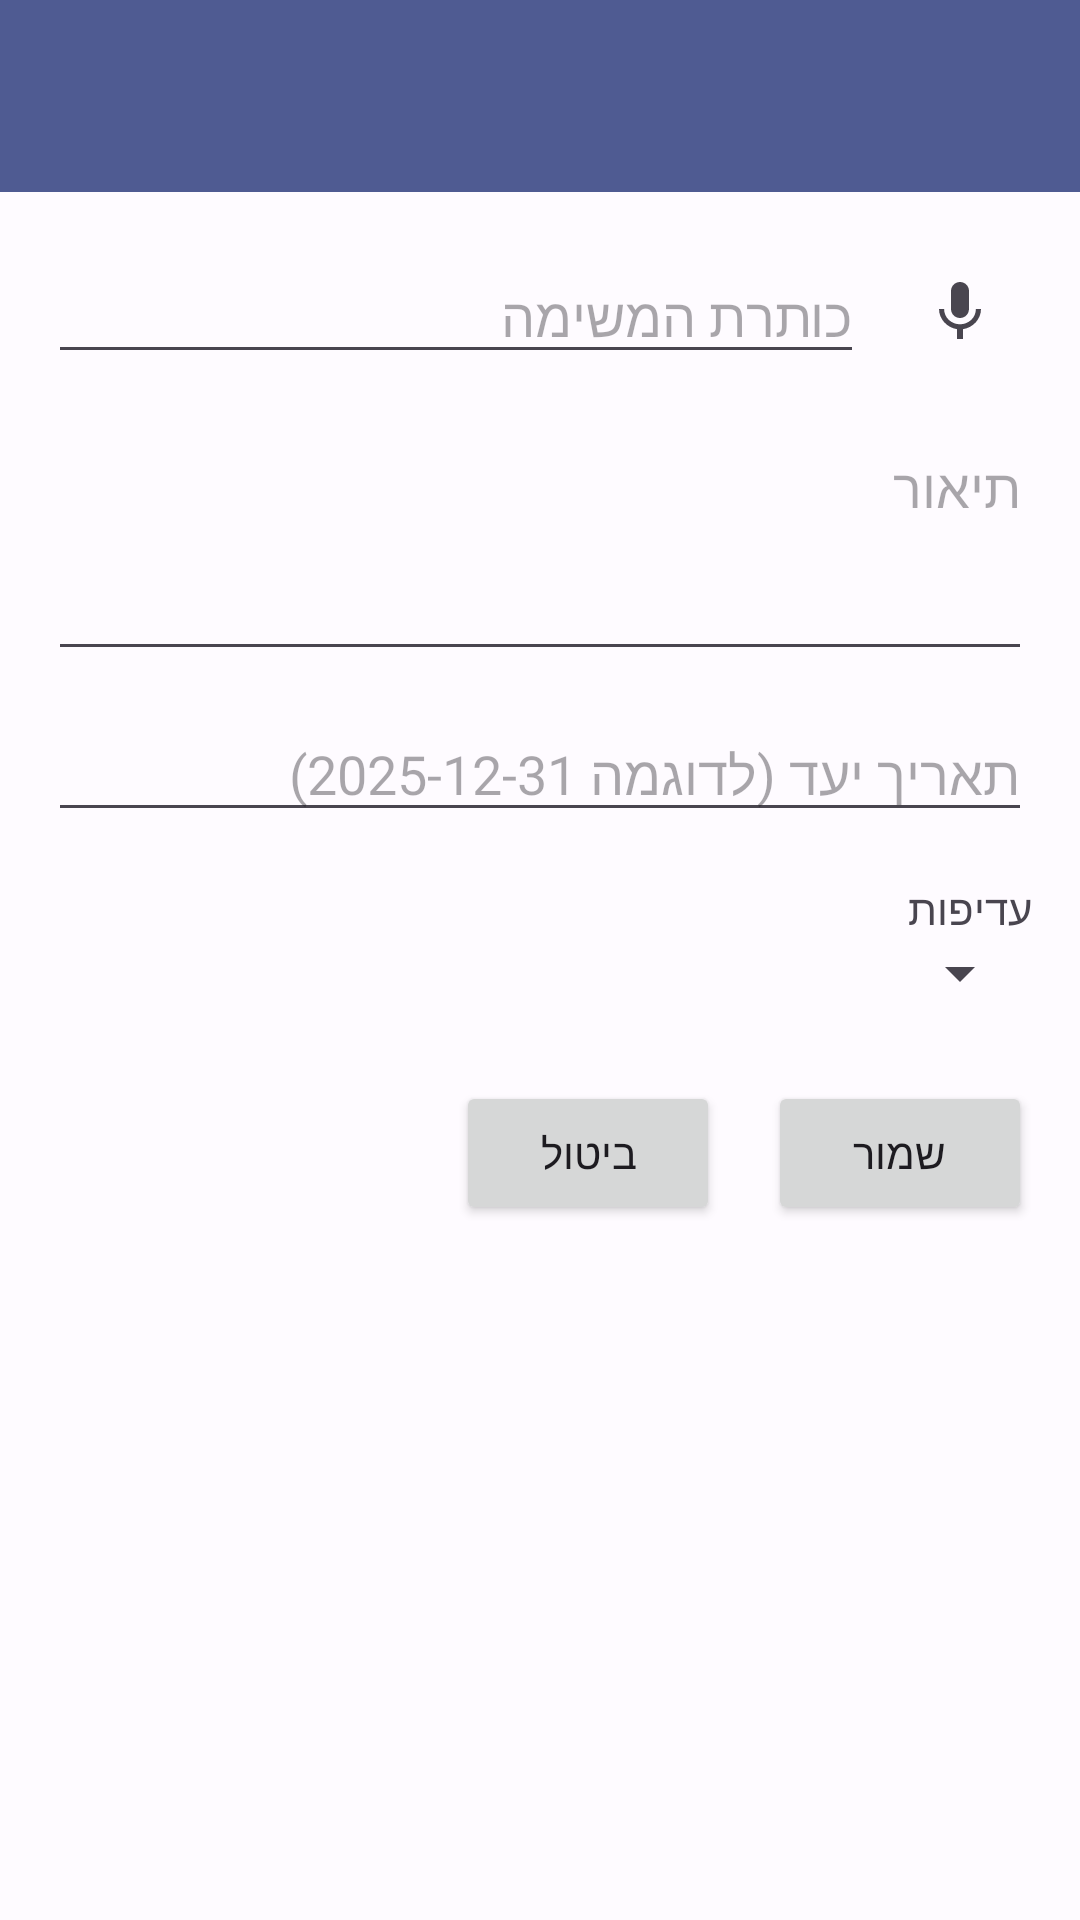

Where to tap for icons on this 1080px×1920px app screen, as point (x, y):
קלט קולי: point (960, 310)
